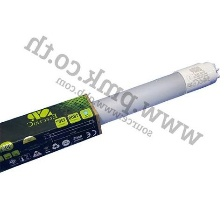carton: (0, 91, 110, 178)
light_bulb: (0, 56, 221, 177)
